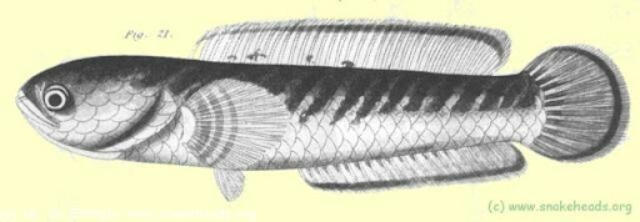Mulut: (8, 74, 70, 149)
Sirip Anal: (294, 140, 530, 192)
Sirip Dada: (168, 79, 302, 169)
Sirip Ekor: (517, 44, 633, 164)
Sirip Perut: (206, 161, 252, 207)
Sirip Punggung: (184, 16, 518, 80)
